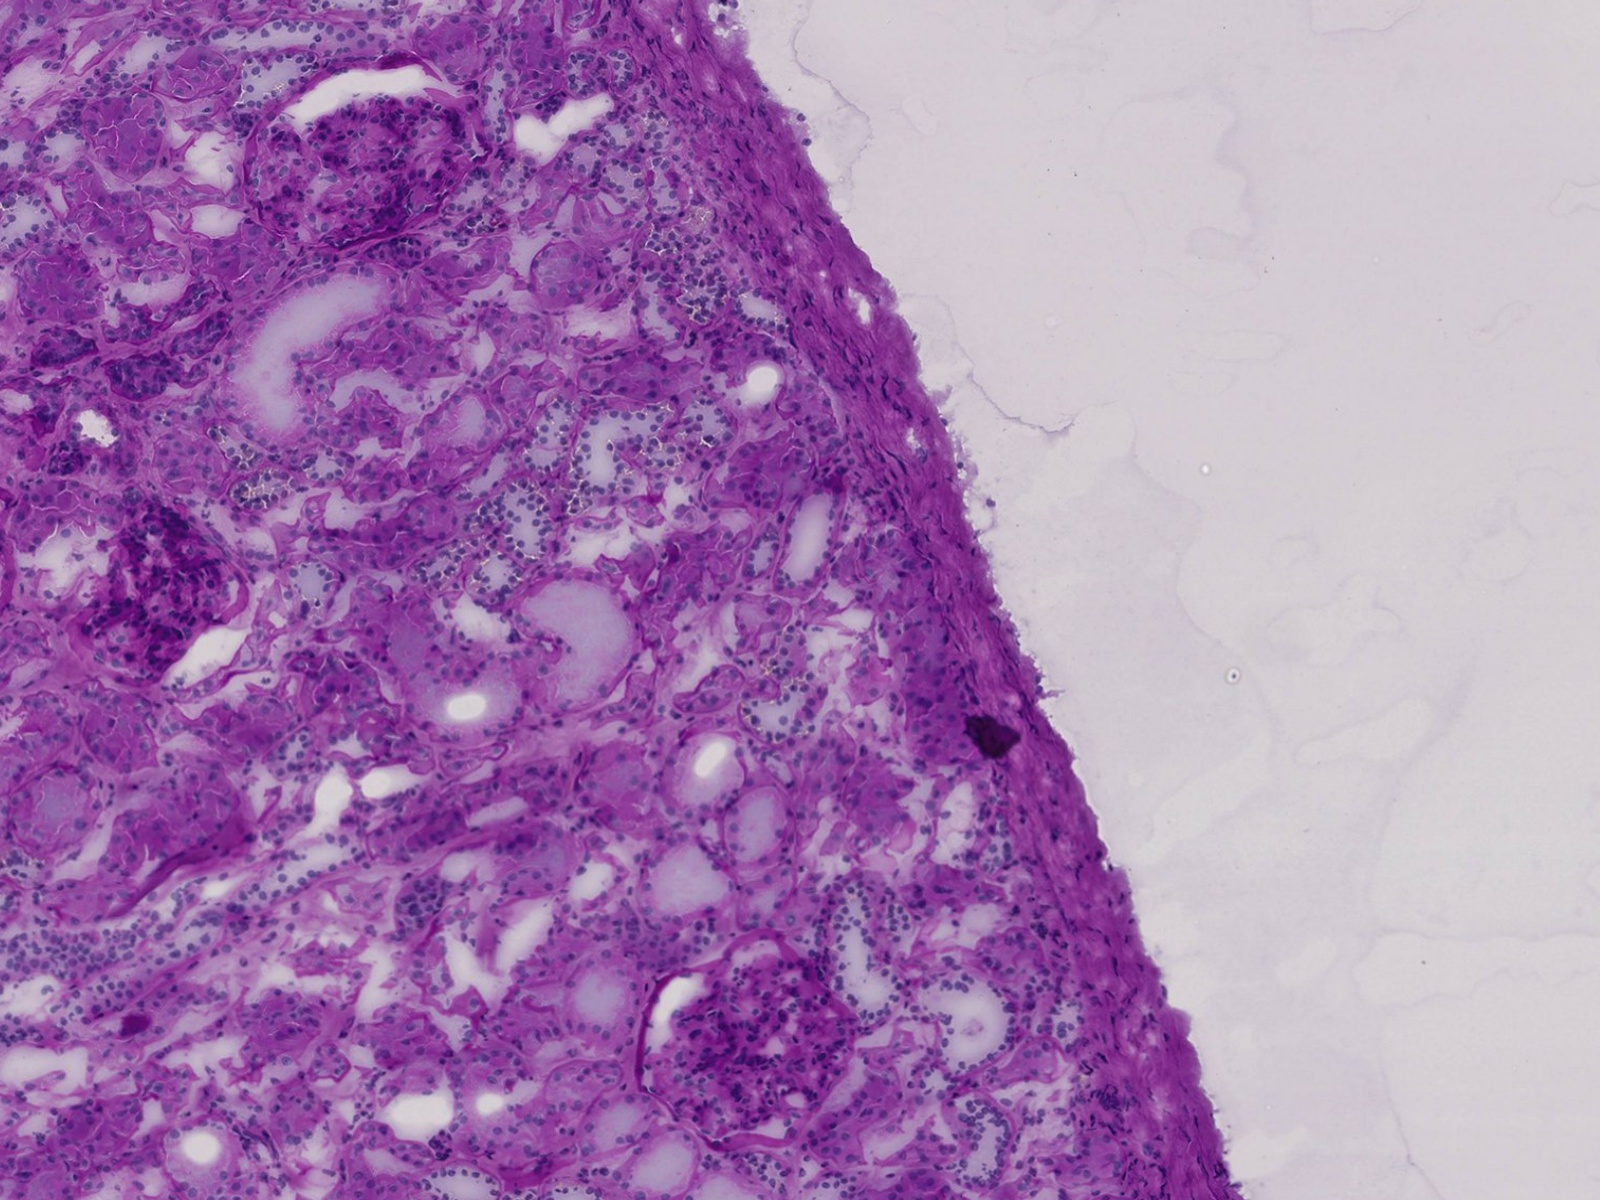Glomeruli: (630, 932, 866, 1158), (236, 58, 495, 258), (81, 495, 257, 691)
